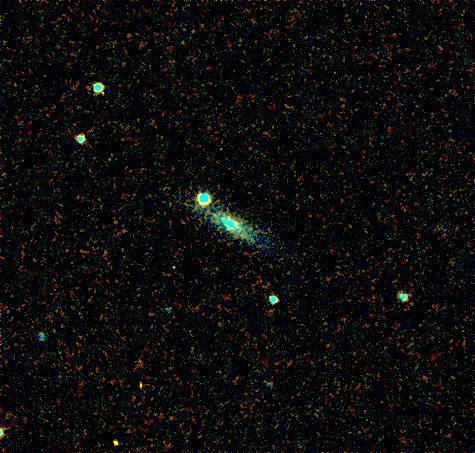star: (102, 423, 132, 453)
